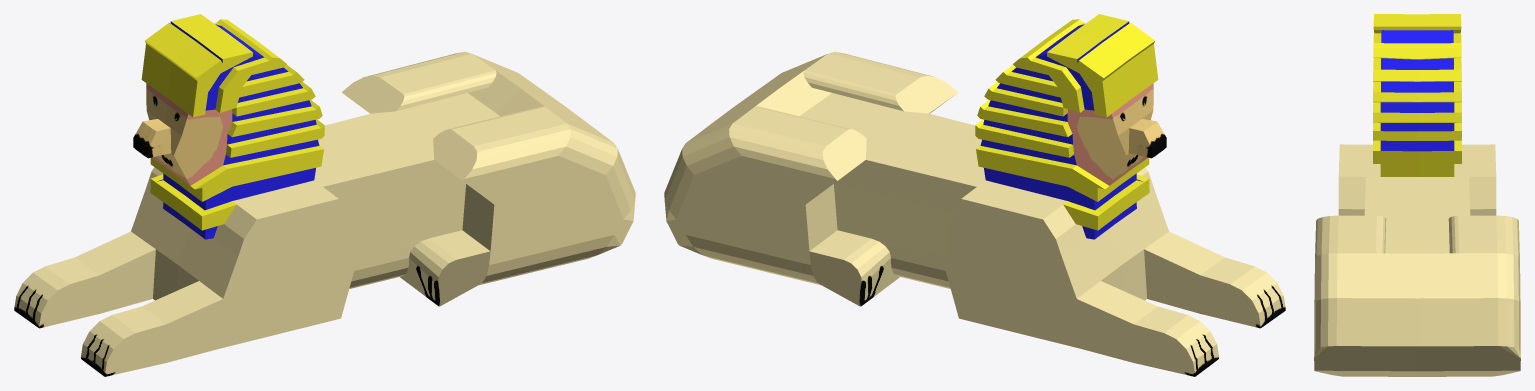
The model's file is egyp1.fbx.
The picture shows the model from 3 angles, left to right: view 1: azimuth 30°, elevation 25°; view 2: azimuth 150°, elevation 25°; view 3: azimuth 270°, elevation 25°; orthographic projection. The views are drawn at different scales.
Parts seen in each view (by area): view 1: Cube.006; view 2: Cube.006; view 3: Cube.006.
Boxes of the visible parts, x1=… form: Cube.006: x1=14, y1=14, x2=635, y2=376; Cube.006: x1=664, y1=14, x2=1285, y2=376; Cube.006: x1=1314, y1=14, x2=1520, y2=376.
Size of the model in its own units: 235 by 116 by 95.48.
